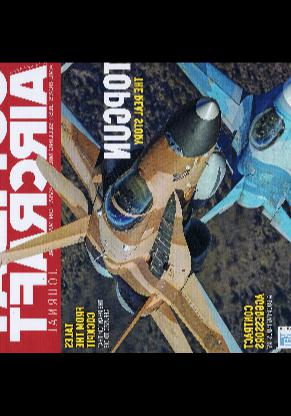F14: (172, 62, 290, 297)
F15: (0, 62, 281, 353)
